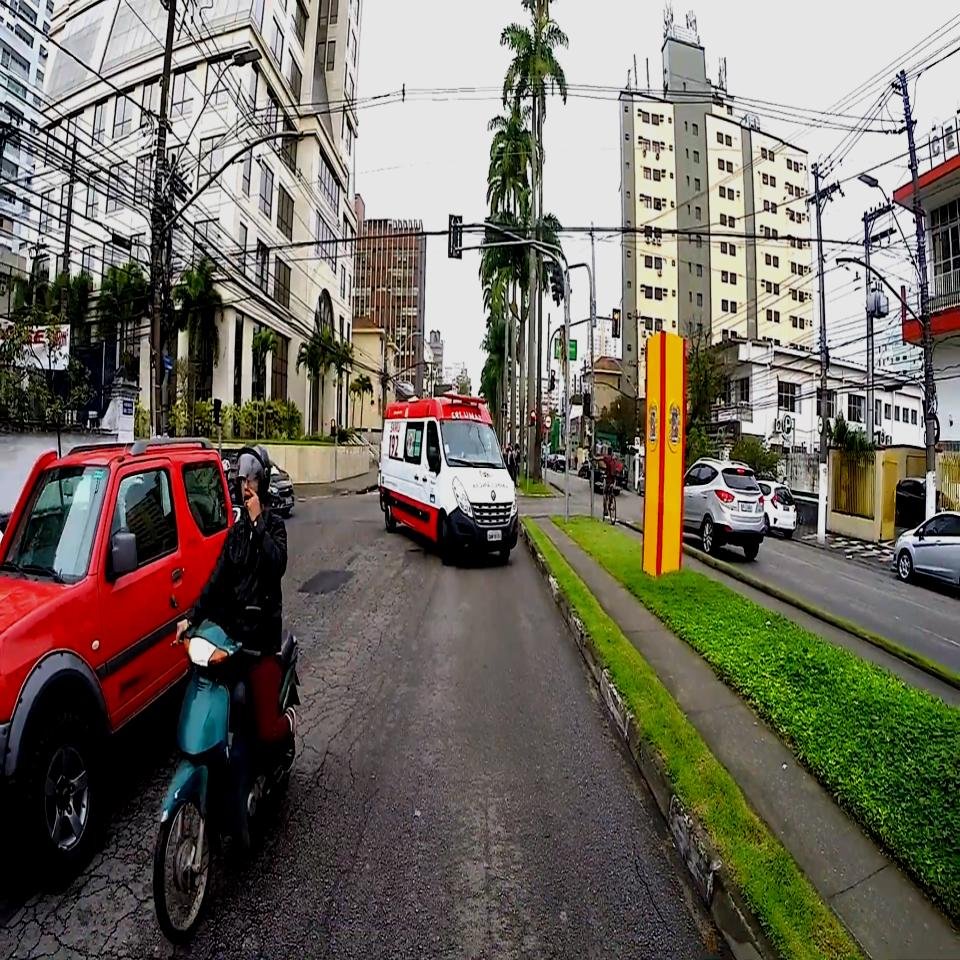ambulancia: (375, 383, 521, 572)
